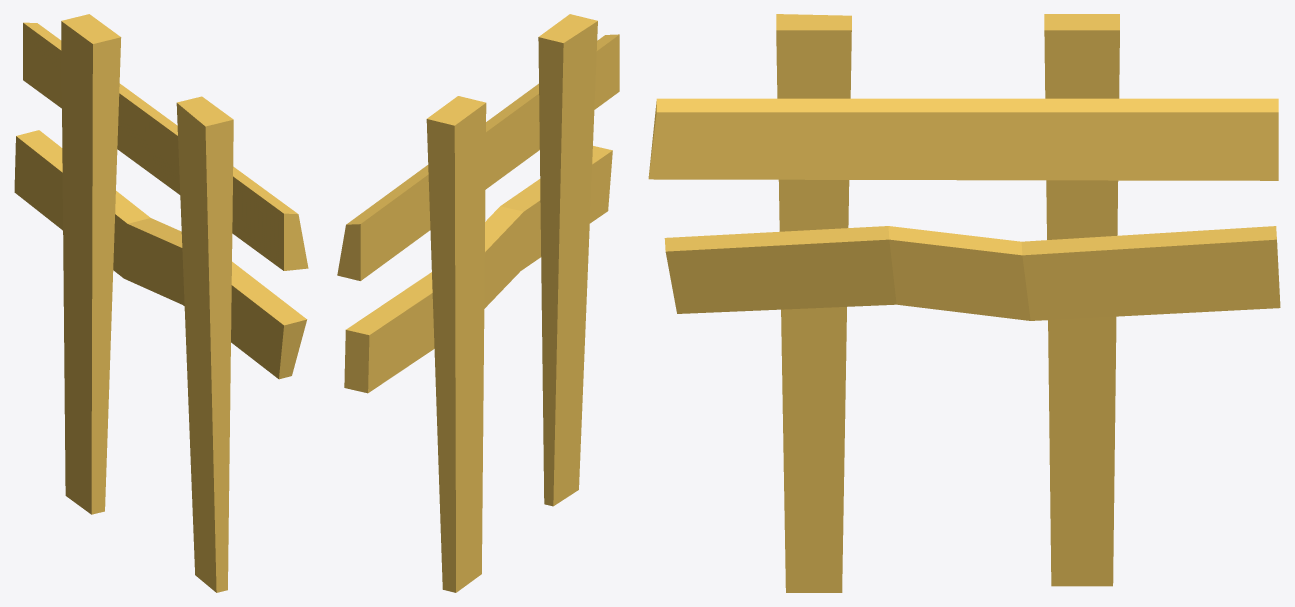
File: Fence1Practice.fbx
3 renders of one model, left to right at view 1: azimuth 30°, elevation 25°; view 2: azimuth 150°, elevation 25°; view 3: azimuth 270°, elevation 25°, orthographic. The views are drawn at different scales.
Visible parts, largest first — view 1: Right Stake, Left Stake, Bottom Plank, Top Plank; view 2: Right Stake, Left Stake, Bottom Plank, Top Plank; view 3: Top Plank, Bottom Plank, Right Stake, Left Stake.
Boxes of the visible parts, left/top/right/bottom form: Right Stake: left=61, top=14, right=121, bottom=514; Left Stake: left=176, top=96, right=233, bottom=592; Bottom Plank: left=14, top=130, right=307, bottom=379; Top Plank: left=23, top=22, right=308, bottom=270; Right Stake: left=426, top=96, right=486, bottom=592; Left Stake: left=538, top=14, right=597, bottom=506; Bottom Plank: left=344, top=146, right=612, bottom=393; Top Plank: left=337, top=34, right=619, bottom=280; Top Plank: left=648, top=98, right=1278, bottom=180; Bottom Plank: left=664, top=226, right=1280, bottom=320; Right Stake: left=1044, top=14, right=1119, bottom=586; Left Stake: left=776, top=14, right=851, bottom=592.
Size of the model in its own units: 40.65 by 332 by 338.
